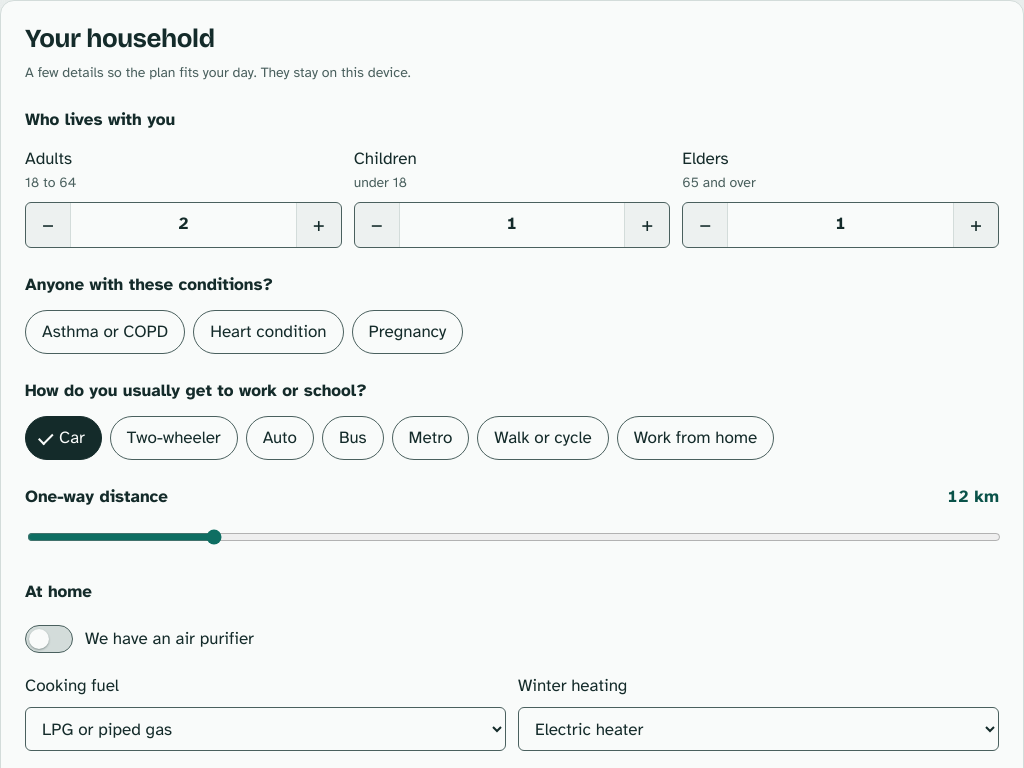
Scenario: HouseholdForm › hides the distance slider for people who work from home
Expected: the slider labelled "One-way distance 12 km" is shown, [27, 521, 1001, 553]
Step 1. Click the radio button labelled "Work from home" → (695, 438), box [617, 416, 774, 460]
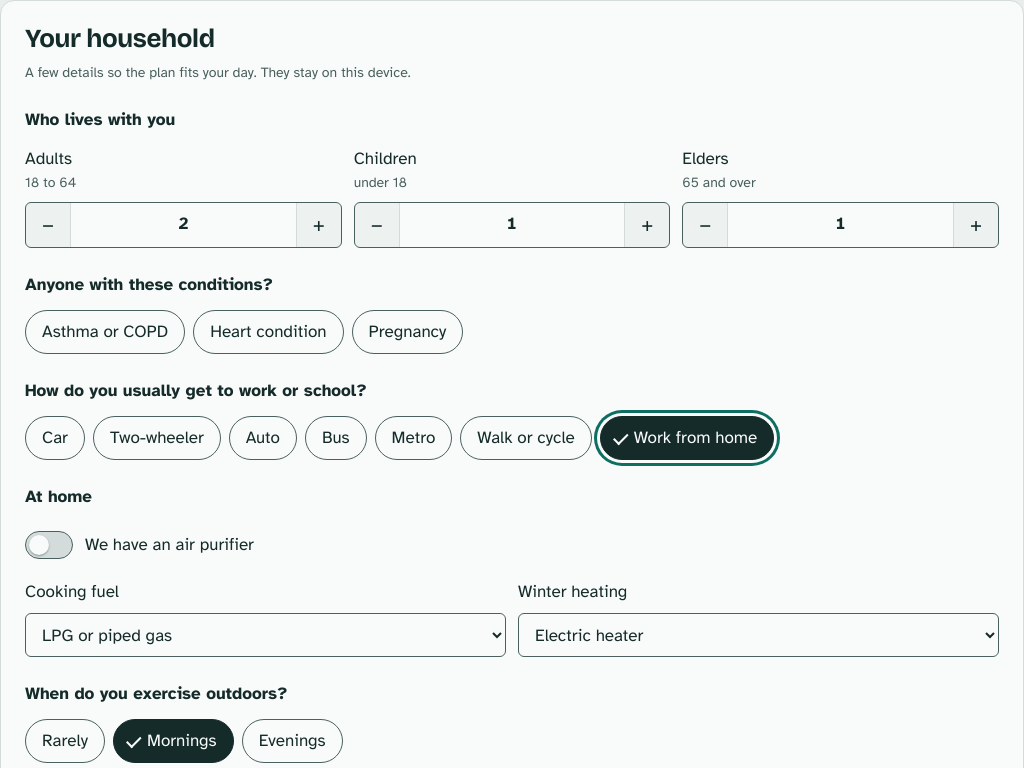
Now the label "One-way distance" is gone
